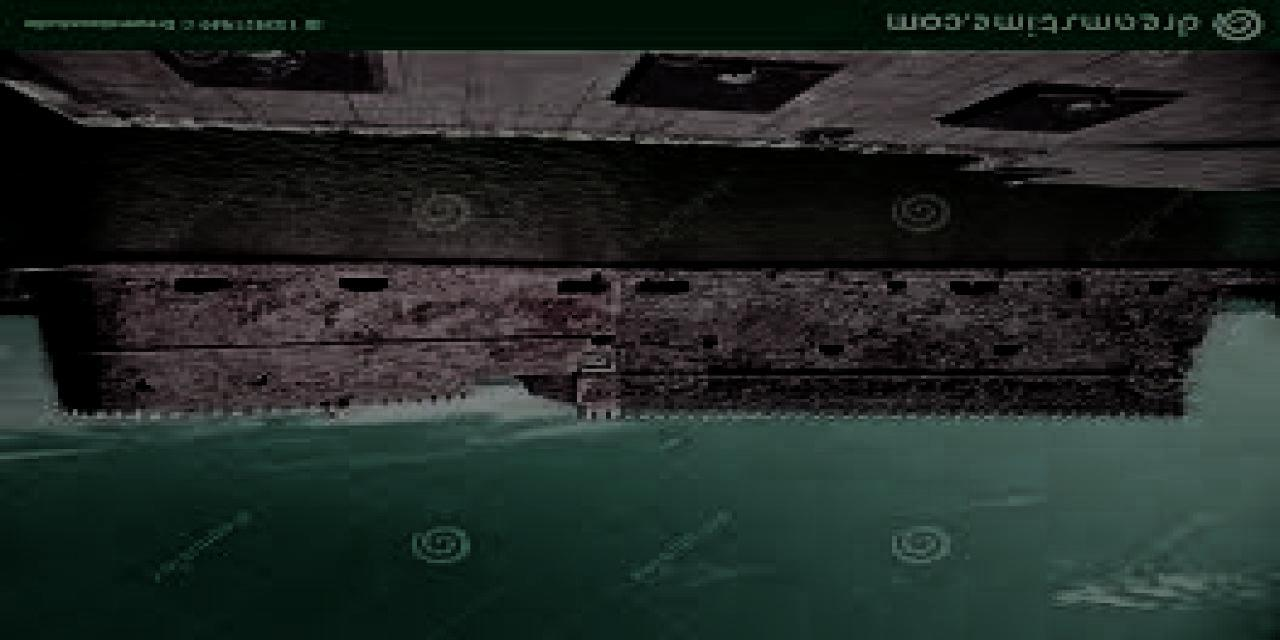Kules: (3, 263, 1208, 443)
